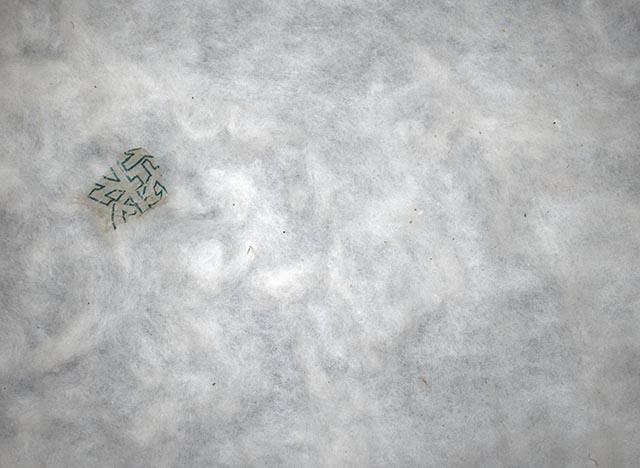plastic film: (80, 145, 169, 236)
